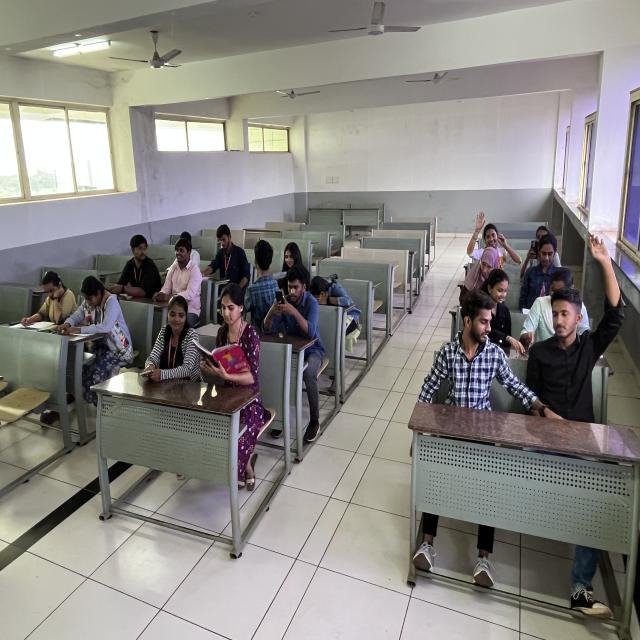Hand Rising: (529, 225, 628, 412), (466, 200, 510, 268)
Reading: (188, 278, 259, 386), (63, 271, 134, 354), (20, 265, 81, 331)
Sleeping: (306, 269, 366, 322)
Using Phone: (135, 288, 198, 386), (260, 266, 325, 350)
